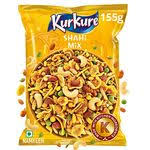kurkure: (45, 12, 101, 33)
plastic: (17, 3, 130, 146)
wrapper: (14, 2, 133, 149)
